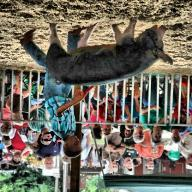boar: (46, 19, 173, 86)
